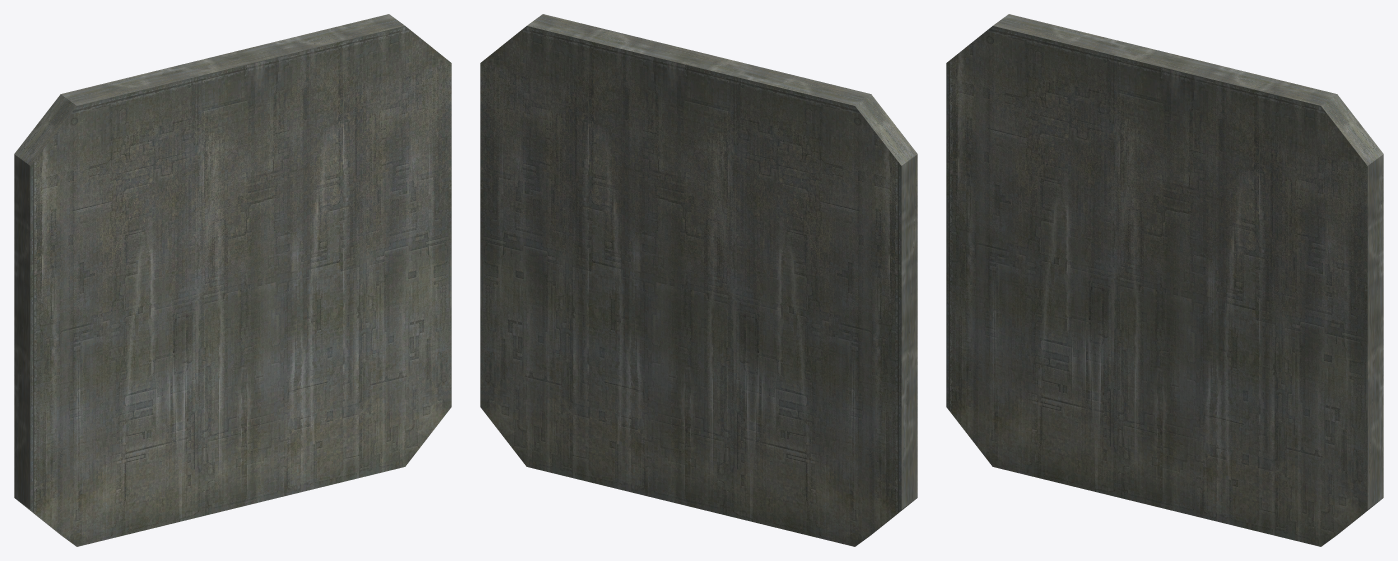
File: RealityWall_6x6.fbx
3 views of the same model, side by side, from view 1: azimuth 30°, elevation 25°; view 2: azimuth 150°, elevation 25°; view 3: azimuth 330°, elevation 25° (orthographic).
Visible parts, largest first — view 1: RealityWall_6x6; view 2: RealityWall_6x6; view 3: RealityWall_6x6.
Boxes of the visible parts, x1,y1,x2,y2 form: RealityWall_6x6: (14, 14, 451, 546); RealityWall_6x6: (480, 14, 917, 546); RealityWall_6x6: (946, 14, 1383, 546).
Bounding box in the file's own units: 600 × 600 × 40.
